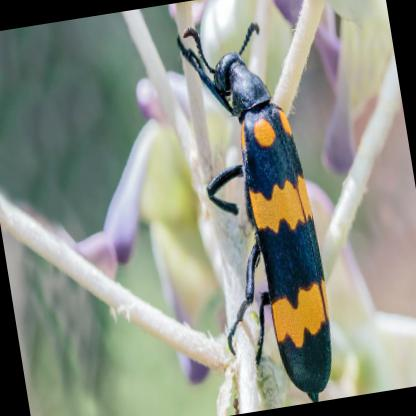blister beetle: (180, 23, 331, 395)
